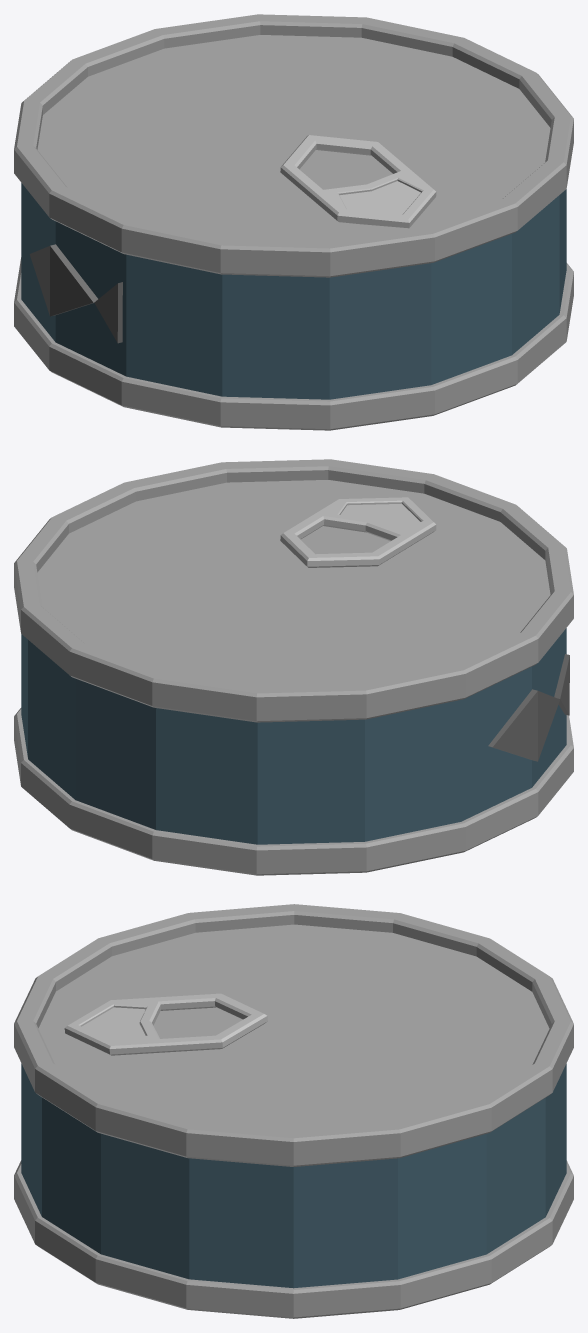
File: kilka unity.fbx
3 renders of one model, top to bottom at view 1: azimuth 30°, elevation 25°; view 2: azimuth 150°, elevation 25°; view 3: azimuth 270°, elevation 25°, orthographic.
Parts seen in each view (by area): view 1: Cylinder.001; view 2: Cylinder.001; view 3: Cylinder.001.
Boxes of the visible parts, x1=… form: Cylinder.001: x1=14, y1=14, x2=573, y2=430; Cylinder.001: x1=14, y1=459, x2=573, y2=875; Cylinder.001: x1=14, y1=904, x2=573, y2=1318.
Size of the model in its own units: 12.62 by 4.67 by 12.62.
